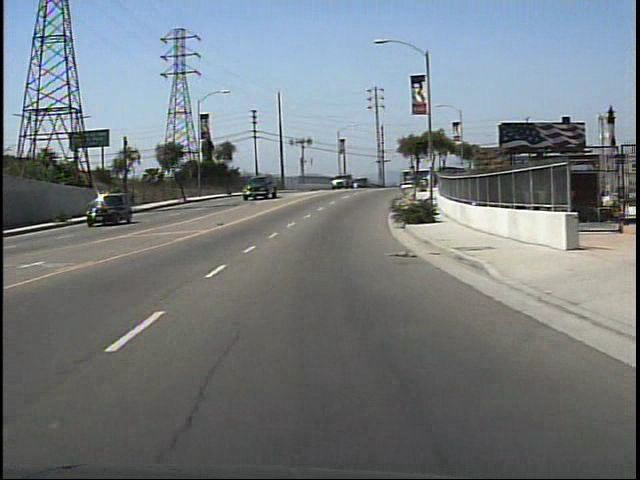person: (426, 171, 437, 197)
